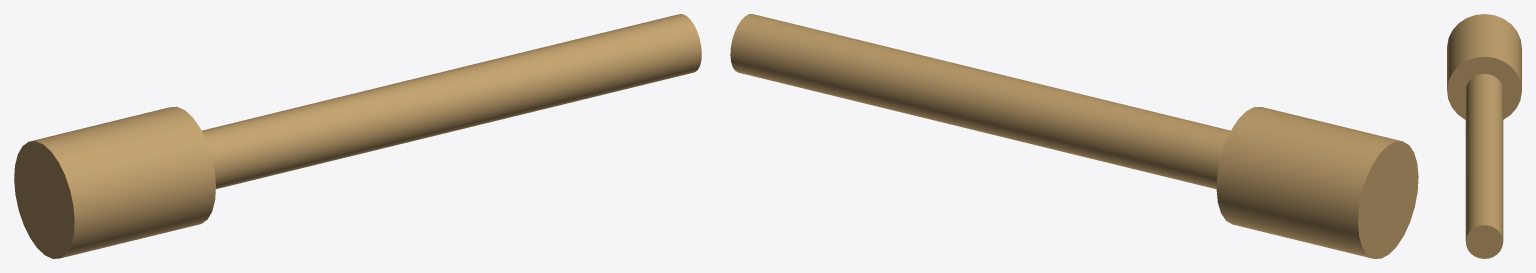
File: pemukul.FBX
3 renders of one model, left to right at view 1: azimuth 30°, elevation 25°; view 2: azimuth 150°, elevation 25°; view 3: azimuth 270°, elevation 25°, orthographic. The views are drawn at different scales.
Visible parts, largest first — view 1: pemukul; view 2: pemukul; view 3: pemukul.
Part boxes in pixels (left/top/right/bottom): pemukul: left=14, top=14, right=701, bottom=258; pemukul: left=730, top=14, right=1418, bottom=258; pemukul: left=1447, top=14, right=1521, bottom=258.
Size of the model in its own units: 19.3 by 3.15 by 3.15.
1 material, 1 textured.
